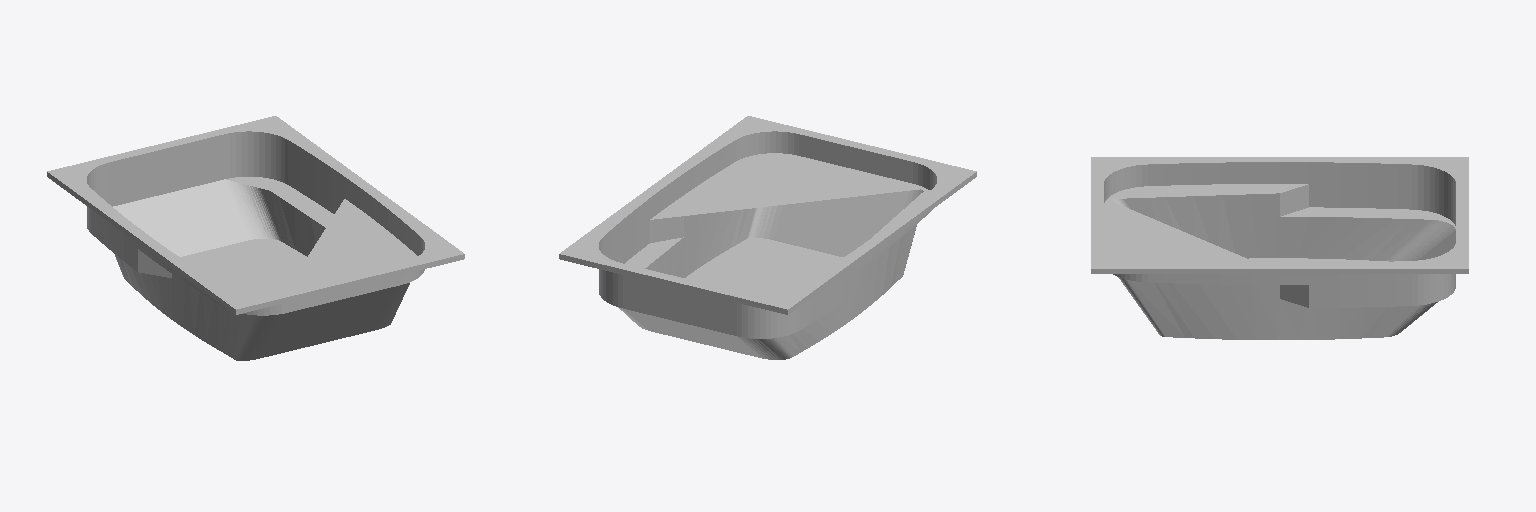
Rendered from PRANA BLANCA.obj.
3 renders of one model, left to right at view 1: azimuth 30°, elevation 25°; view 2: azimuth 150°, elevation 25°; view 3: azimuth 270°, elevation 25°, orthographic.
Parts seen in each view (by area): view 1: Mesh1 Group1 Model; view 2: Mesh1 Group1 Model; view 3: Mesh1 Group1 Model.
Part boxes in pixels (bbox=[...]): Mesh1 Group1 Model: bbox=[47, 116, 464, 360]; Mesh1 Group1 Model: bbox=[559, 116, 976, 359]; Mesh1 Group1 Model: bbox=[1091, 157, 1468, 339].
Bounding box in the file's own units: 119 × 43 × 170.